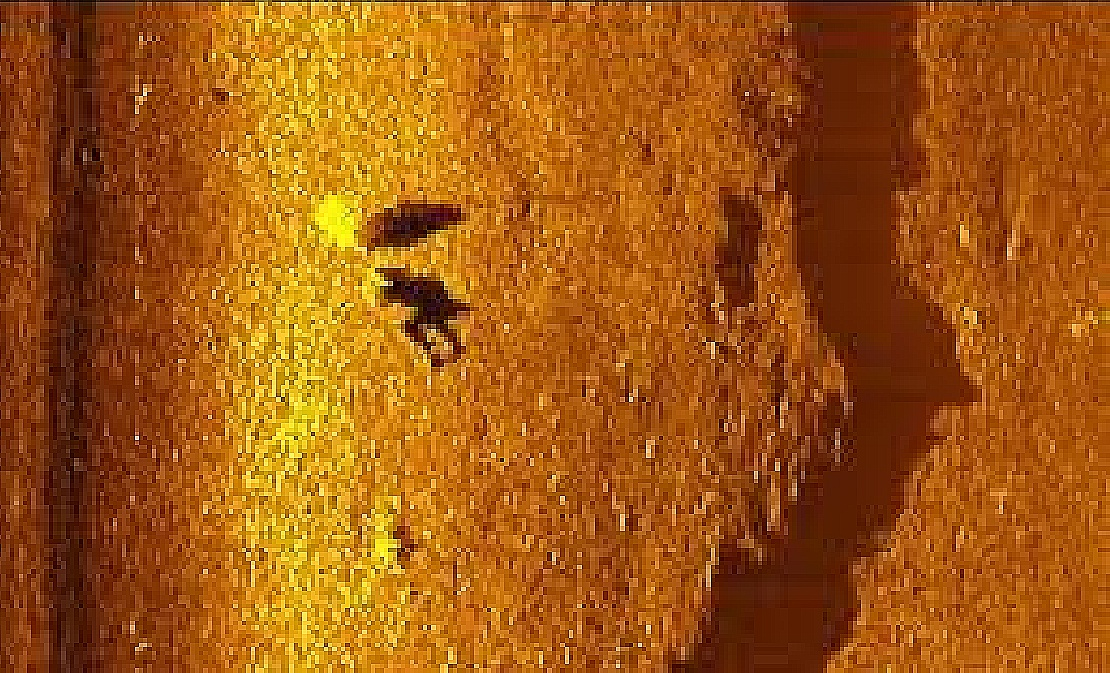human: (353, 260, 459, 365)
